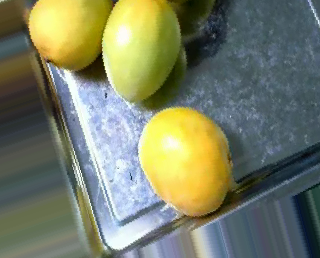Mango: (139, 101, 241, 216), (99, 0, 184, 107), (26, 1, 109, 72)
